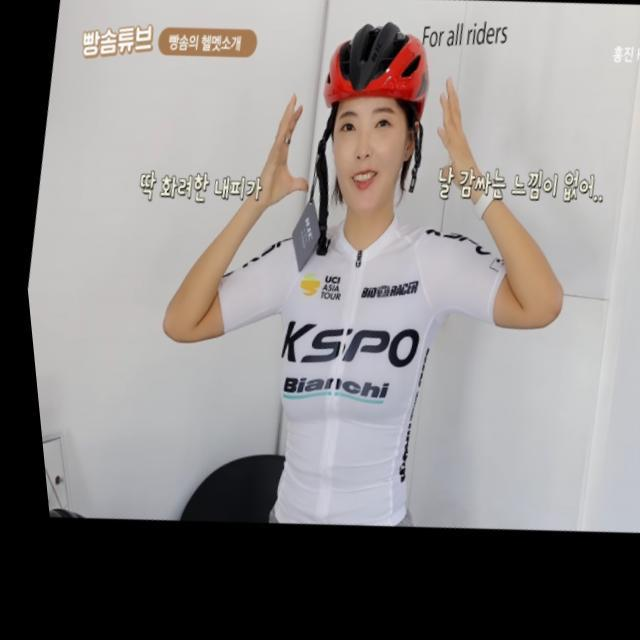Helmet: (316, 20, 432, 215)
